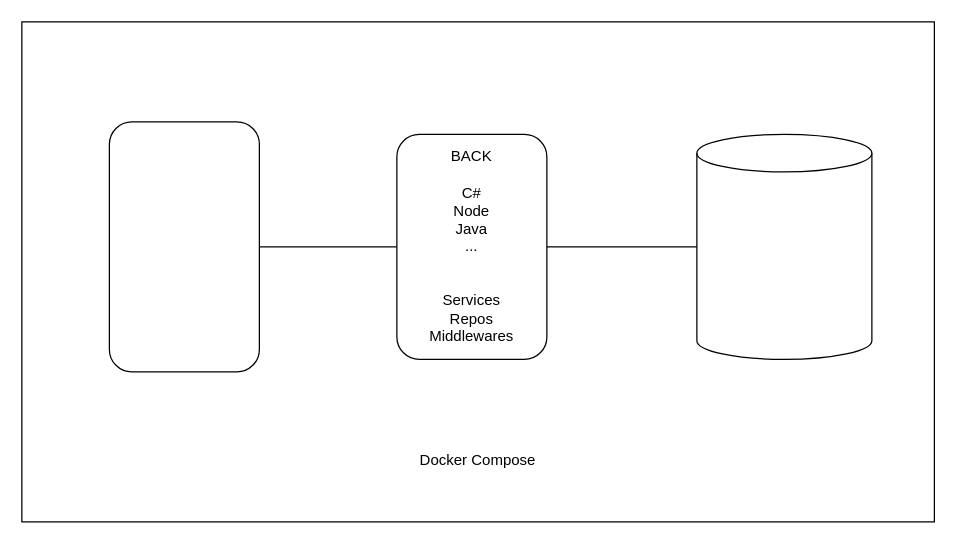
The diagram is 956 pixels wide and 544 high, and some of its shapes have lost their labels. Here are the shapes that lost their labels. From the top down, the centre of each, then its label:
At [183,246]: "FRONT Node Nest Vue".
At [784,246]: "DB Postgres MySQL MariaDB".
